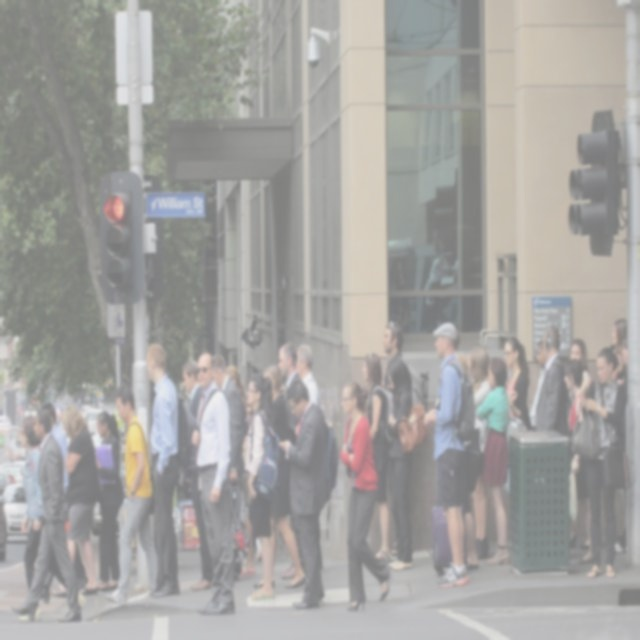pessoa: (419, 317, 479, 590), (10, 406, 84, 624), (15, 411, 89, 624), (276, 373, 340, 613), (568, 338, 628, 581), (337, 379, 393, 612), (251, 362, 307, 592), (190, 351, 237, 618), (104, 384, 158, 607), (44, 399, 102, 601), (144, 341, 182, 601), (240, 372, 278, 605), (358, 347, 396, 568), (473, 353, 512, 568), (382, 319, 415, 557), (182, 358, 214, 592), (436, 323, 468, 552), (276, 340, 306, 580), (564, 357, 594, 568), (466, 348, 494, 562), (94, 408, 125, 592), (212, 355, 245, 488), (534, 322, 568, 434), (38, 400, 72, 497), (502, 332, 534, 434), (428, 218, 458, 308), (527, 338, 549, 432), (292, 343, 322, 406), (567, 336, 593, 404), (606, 314, 629, 356), (226, 362, 247, 400), (454, 350, 470, 380), (616, 341, 628, 366)
